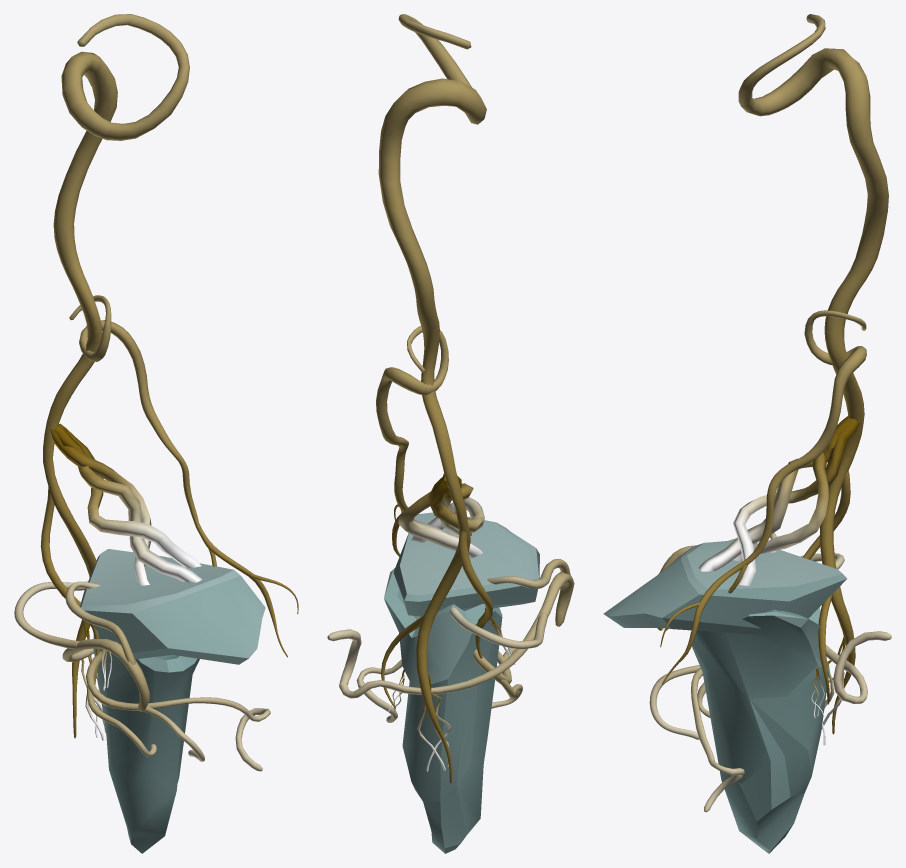
File: EnemyC.fbx
The picture shows the model from 3 angles, left to right: view 1: azimuth 30°, elevation 25°; view 2: azimuth 150°, elevation 25°; view 3: azimuth 270°, elevation 25°; orthographic projection. The views are drawn at different scales.
Visible parts, largest first — view 1: enemyCMesh; view 2: enemyCMesh; view 3: enemyCMesh.
Part boxes in pixels (x1,y1,x2,y2): enemyCMesh: [14, 14, 298, 853]; enemyCMesh: [327, 14, 574, 853]; enemyCMesh: [603, 14, 891, 853].
Size of the model in its own units: 9.77 by 36.23 by 11.42.
